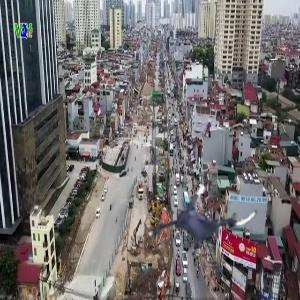drone: (157, 169, 257, 269)
